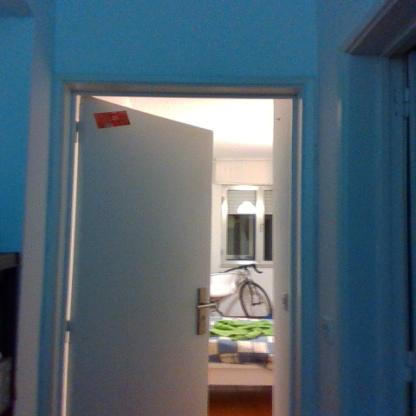semi: (53, 80, 300, 411)
